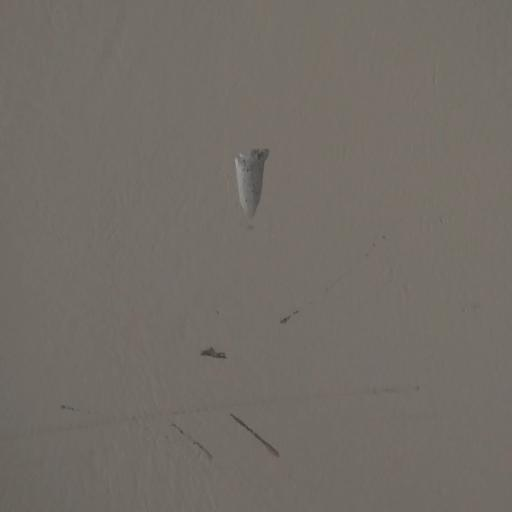stain: (50, 295, 310, 476)
